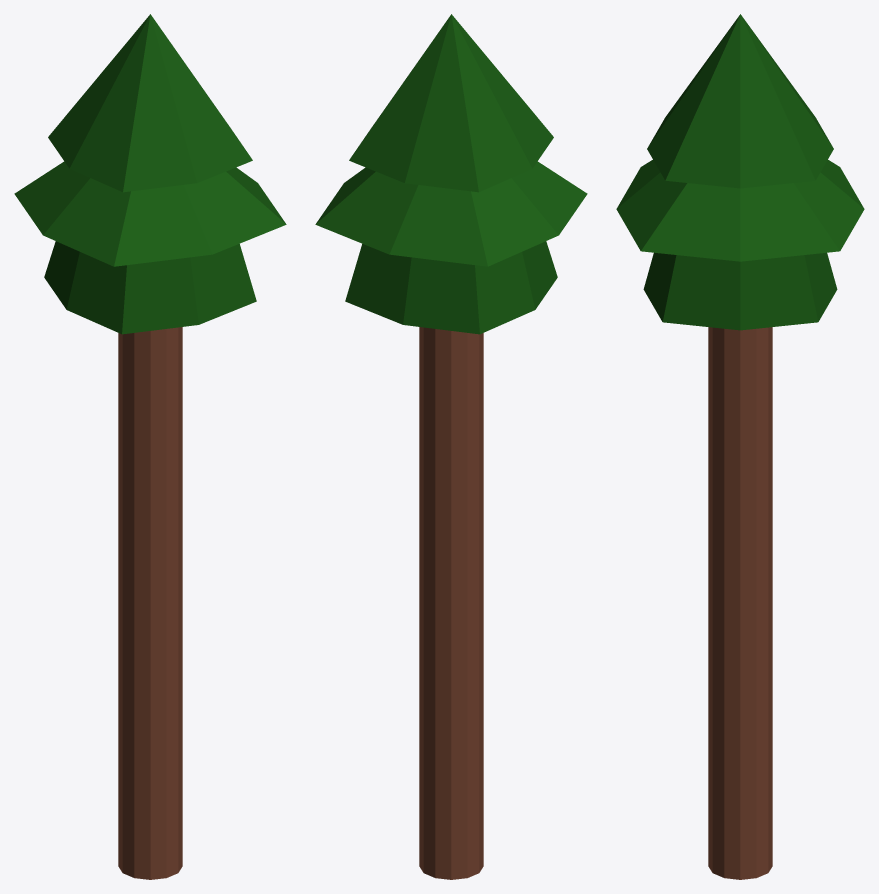
File: Tree_20_autumn_vc.fbx
3 views of the same model, side by side, from view 1: azimuth 30°, elevation 25°; view 2: azimuth 150°, elevation 25°; view 3: azimuth 270°, elevation 25° (orthographic).
Parts seen in each view (by area): view 1: Tree_20_autumn_vc; view 2: Tree_20_autumn_vc; view 3: Tree_20_autumn_vc.
Part boxes in pixels (x1=…): Tree_20_autumn_vc: x1=14, y1=14, x2=286, y2=879; Tree_20_autumn_vc: x1=315, y1=14, x2=587, y2=879; Tree_20_autumn_vc: x1=616, y1=14, x2=864, y2=879.
Size of the model in its own units: 2.22 by 8.43 by 2.22.
